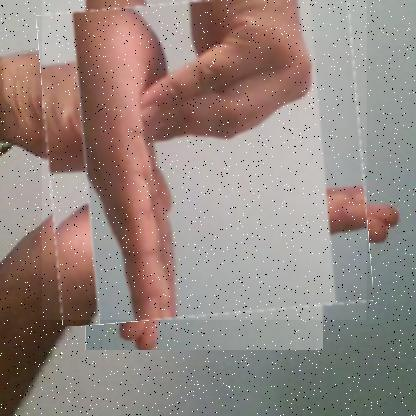Z: (42, 0, 368, 321)
